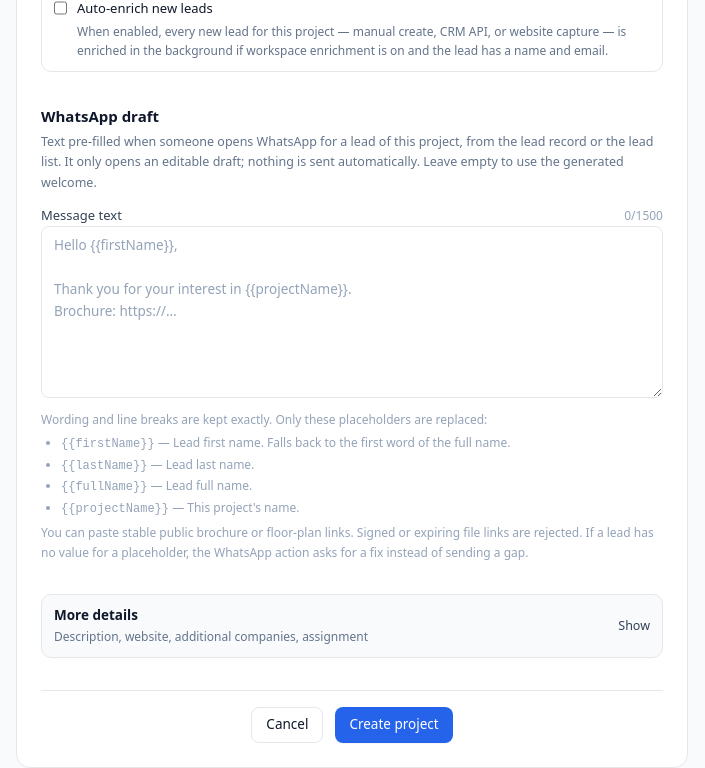
Scenario: ProjectFormPage › shows essentials and keeps advanced details collapsed
(page scrolled)
Expected: the field labelled "Assigned to" is not shown
Step 1. Click the button "More details" → (352, 626), box [41,594,663,658]
(page scrolled)
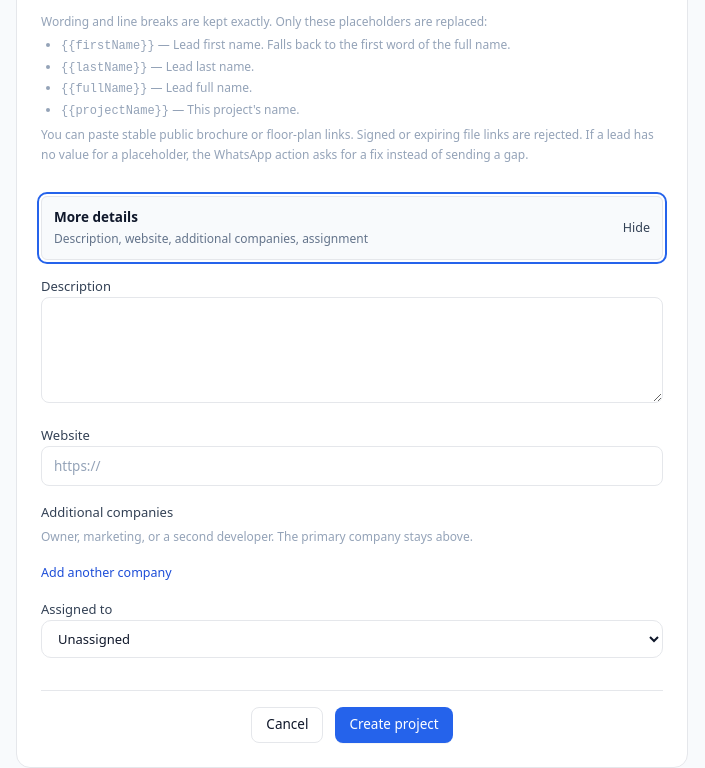
Expected: the text box labelled "Description" is shown, [41,297,663,403]
Expected: the field labelled "Website" is shown, [41,446,663,486]
Expected: the button "Add another company" is shown, [41,563,172,583]
